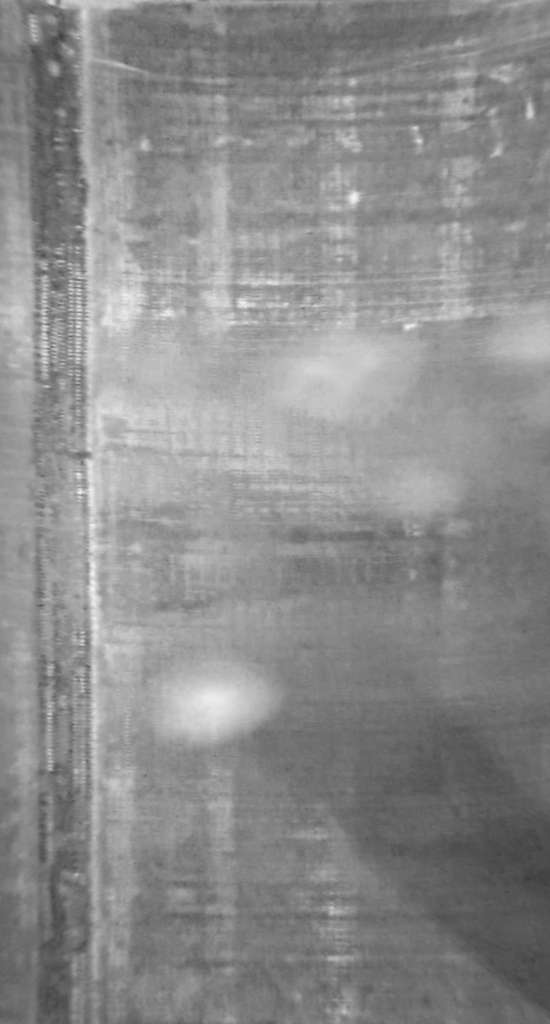splice: (22, 1, 94, 1024)
